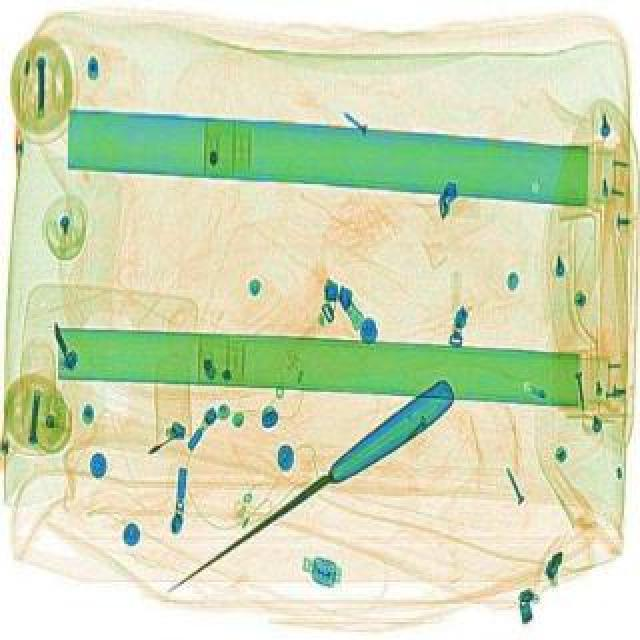knife: (156, 376, 464, 602)
